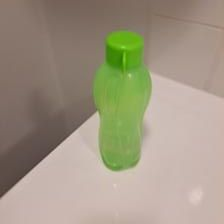bottle: (91, 28, 152, 170)
